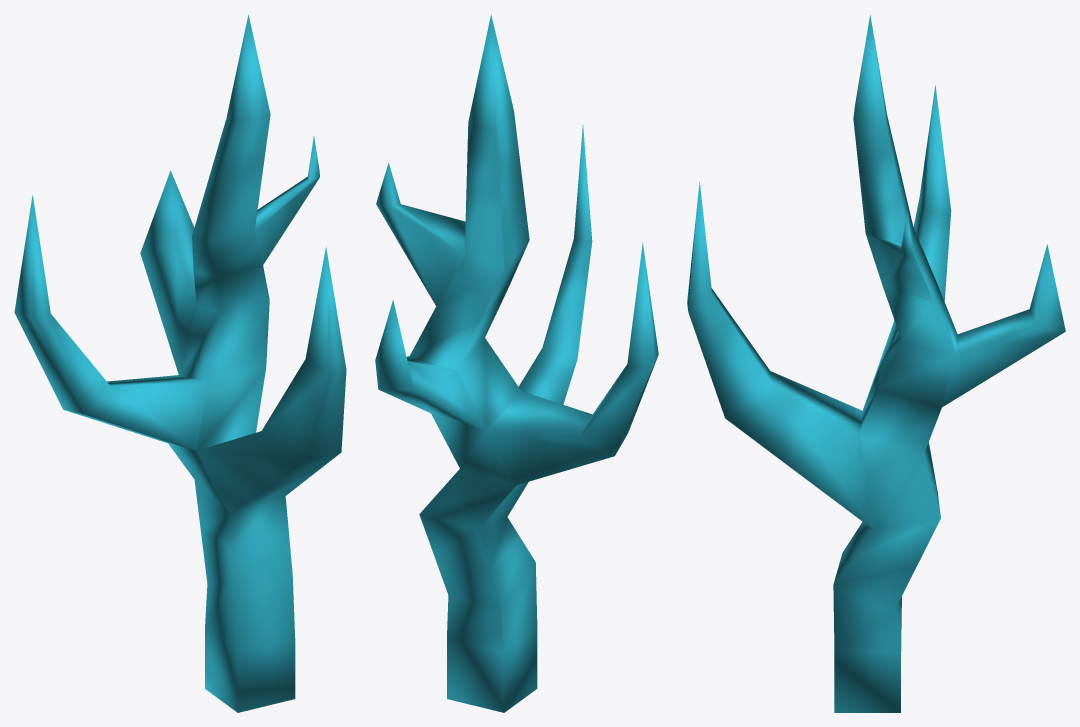
File: Plant 1.fbx
The picture shows the model from 3 angles, left to right: view 1: azimuth 30°, elevation 25°; view 2: azimuth 150°, elevation 25°; view 3: azimuth 270°, elevation 25°; orthographic projection.
Parts seen in each view (by area): view 1: Cube; view 2: Cube; view 3: Cube.
Part boxes in pixels (box(x1,y1,x2,y2)): Cube: box(14, 14, 346, 712); Cube: box(375, 14, 658, 712); Cube: box(687, 15, 1065, 712).
Bounding box in the file's own units: 7.4 × 6.61 × 14.76.
Materials: 1 (1 with a texture image).
